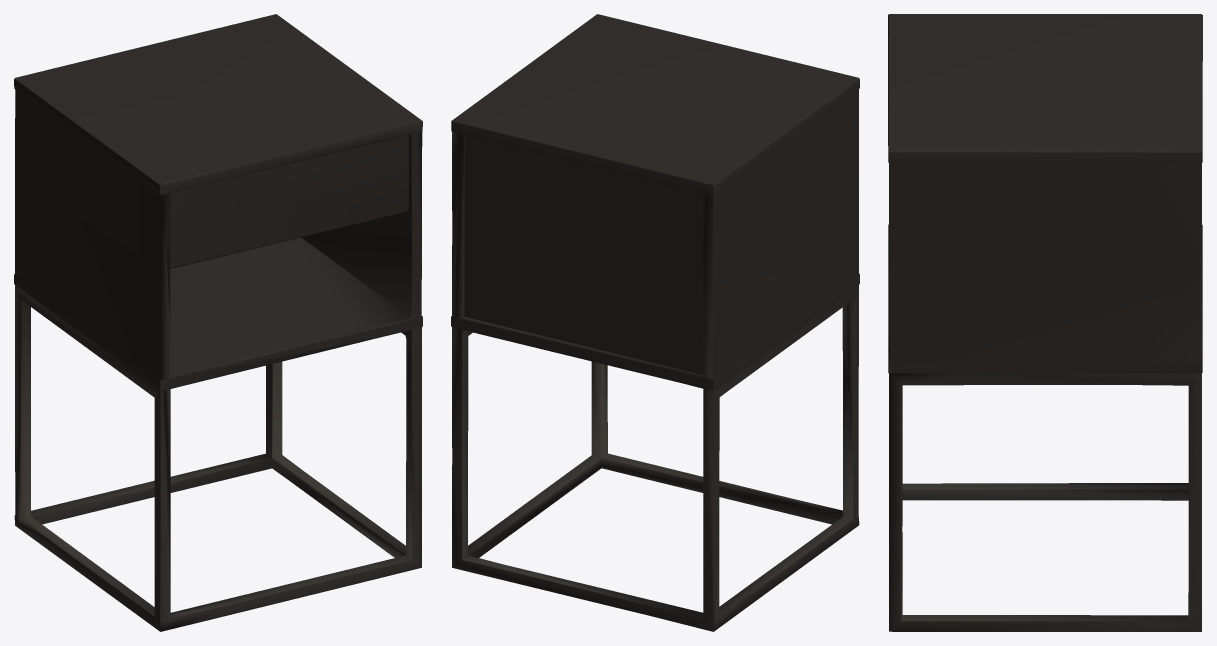
Rendered from vikhammer_stolik_nocny_20388972.glb.
3 views of the same model, side by side, from view 1: azimuth 30°, elevation 25°; view 2: azimuth 150°, elevation 25°; view 3: azimuth 270°, elevation 25° (orthographic). The views are drawn at different scales.
Parts seen in each view (by area): view 1: vikhammer_stolik_nocny_20388972; view 2: vikhammer_stolik_nocny_20388972; view 3: vikhammer_stolik_nocny_20388972.
Boxes of the visible parts, <box> form: vikhammer_stolik_nocny_20388972: <box>14,14,422,631</box>; vikhammer_stolik_nocny_20388972: <box>451,14,859,631</box>; vikhammer_stolik_nocny_20388972: <box>888,14,1202,631</box>.
Size of the model in its own units: 0.4002 by 0.652 by 0.3852.
1 material, 1 textured.
